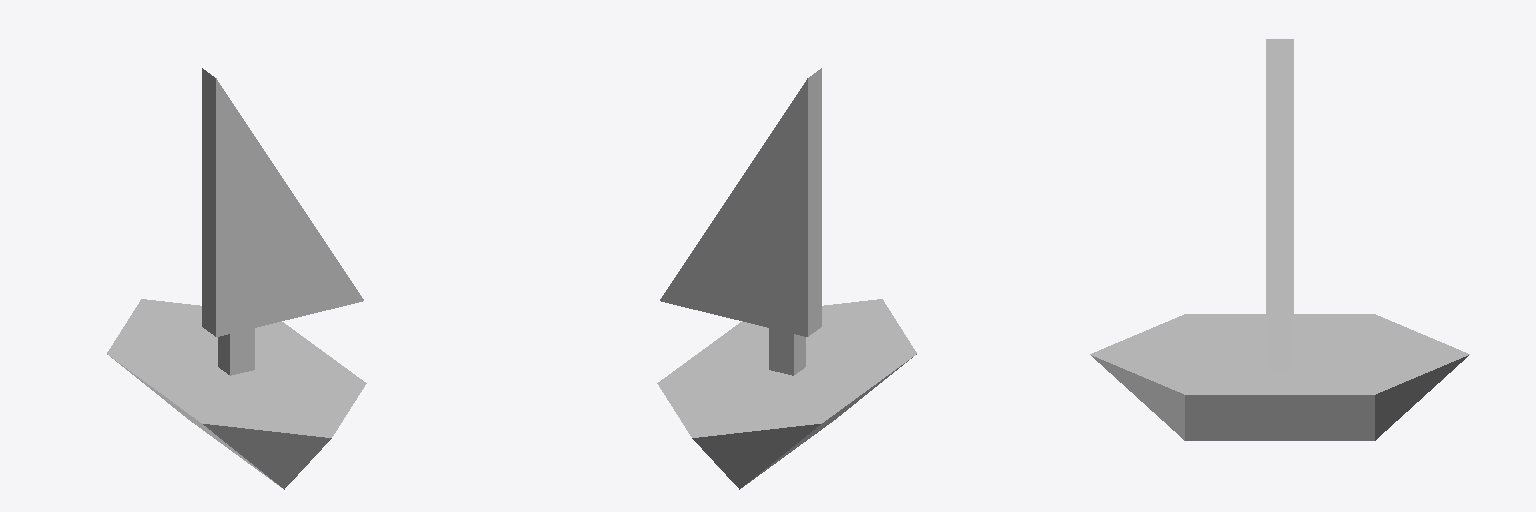
The model's file is boat.obj.
3 views of the same model, side by side, from view 1: azimuth 30°, elevation 25°; view 2: azimuth 150°, elevation 25°; view 3: azimuth 270°, elevation 25° (orthographic).
Parts seen in each view (by area): view 1: Cube, Cube.001, Cube.002; view 2: Cube, Cube.001, Cube.002; view 3: Cube, Cube.001.
Part boxes in pixels (bbox=[...]): Cube: bbox=[107, 299, 366, 489]; Cube.001: bbox=[202, 68, 363, 336]; Cube.002: bbox=[218, 328, 254, 375]; Cube: bbox=[657, 299, 916, 489]; Cube.001: bbox=[660, 68, 821, 336]; Cube.002: bbox=[769, 328, 805, 375]; Cube: bbox=[1090, 314, 1469, 440]; Cube.001: bbox=[1266, 39, 1293, 369].
Bounding box in the file's own units: 4.94 × 9 × 8.